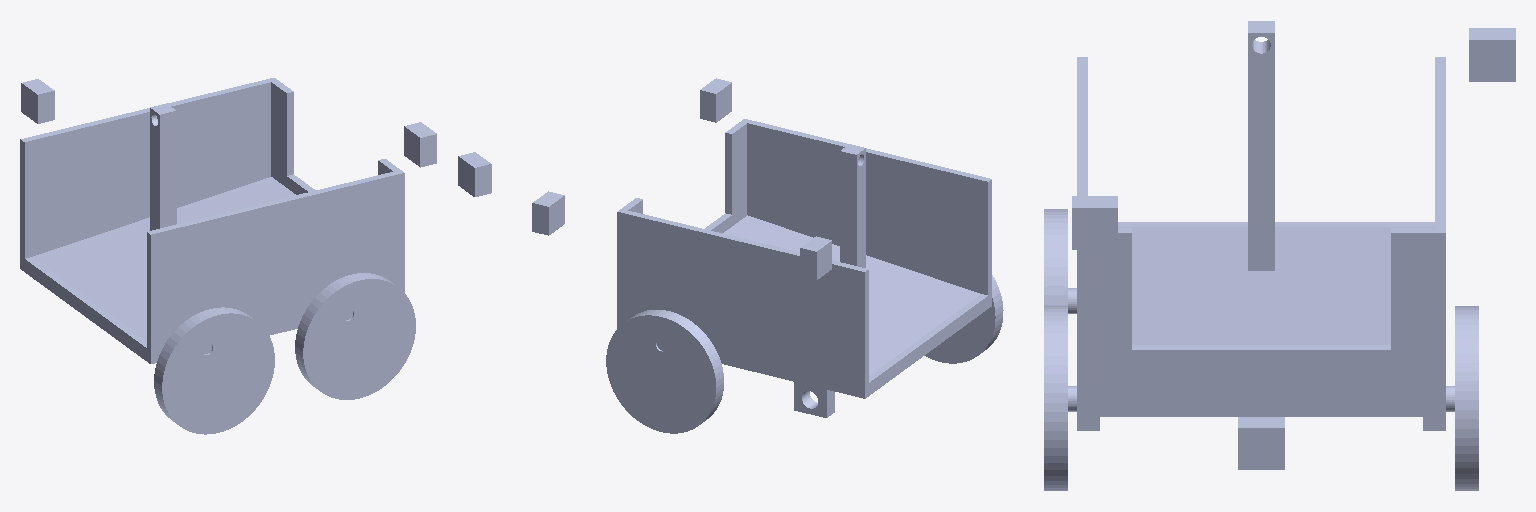
robot.urdf — bot11:
<?xml version="1.0" encoding="utf-8"?>

<robot
  name="bot11">
  <link
    name="base_link">
    <inertial>
      <origin
        xyz="0.02776 2.413E-16 0.048645"
        rpy="0 0 0" />
      <mass
        value="10.2" />
      <inertia
        ixx="0.22281"
        ixy="2.4131E-16"
        ixz="0.0003497"
        iyy="0.20416"
        iyz="1.0191E-16"
        izz="0.35837" />
    </inertial>
    <visual>
      <origin
        xyz="0 0 0"
        rpy="0 0 0" />
      <geometry>
        <mesh
          filename="package://bot11/meshes/base_link.STL" />
      </geometry>
      <material
        name="">
        <color
          rgba="0.79216 0.81961 0.93333 1" />
      </material>
    </visual>
    <collision>
      <origin
        xyz="0 0 0"
        rpy="0 0 0" />
      <geometry>
        <mesh
          filename="package://bot11/meshes/base_link.STL" />
      </geometry>
    </collision>
  </link>


  <link
    name="FRW">
    <inertial>
      <origin
        xyz="0 -7.5392E-05 -0.089381"
        rpy="0 0 0" />
      <mass
        value="0.8334" />
      <inertia
        ixx="0.0021574"
        ixy="1.6263E-19"
        ixz="-8.4703E-21"
        iyy="0.0021606"
        iyz="-8.5571E-07"
        izz="0.0039286" />
    </inertial>
    <visual>
      <origin
        xyz="0 0 0"
        rpy="0 0 0" />
      <geometry>
        <mesh
          filename="package://bot11/meshes/FRW.STL" />
      </geometry>
      <material
        name="one">
        <color
          rgba="0.79216 0.81961 0.93333 1" />
      </material>
    </visual>
    <collision>
      <origin
        xyz="0 0 0"
        rpy="0 0 0" />
      <geometry>
        <mesh
          filename="package://bot11/meshes/FRW.STL" />
      </geometry>
    </collision>
  </link>


  <joint
    name="FRWJ"
    type="continuous">
    <origin
      xyz="0.125 -0.13 -0.025"
      rpy="1.5708 0.39309 -3.1416" />
    <parent
      link="base_link" />
    <child
      link="FRW" />
    <axis
      xyz="0 0 1" />
    <safety_controller
      k_velocity="0" />
  </joint>


  <link
    name="FLW">
    <inertial>
      <origin
        xyz="0 -7.5392E-05 -0.089381"
        rpy="0 0 0" />
      <mass
        value="0.8334" />
      <inertia
        ixx="0.0021574"
        ixy="-8.7964E-21"
        ixz="2.7837E-19"
        iyy="0.0021606"
        iyz="-8.5571E-07"
        izz="0.0039286" />
    </inertial>
    <visual>
      <origin
        xyz="0 0 0"
        rpy="0 0 0" />
      <geometry>
        <mesh
          filename="package://bot11/meshes/FLW.STL" />
      </geometry>
      <material
        name="">
        <color
          rgba="0.79216 0.81961 0.93333 1" />
      </material>
    </visual>
    <collision>
      <origin
        xyz="0 0 0"
        rpy="0 0 0" />
      <geometry>
        <mesh
          filename="package://bot11/meshes/FLW.STL" />
      </geometry>
    </collision>
  </link>


  <joint
    name="FLWJ"
    type="continuous">
    <origin
      xyz="0.125000000000004 0.13 -0.025"
      rpy="1.5707963267949 0 0" />
    <parent
      link="base_link" />
    <child
      link="FLW" />
    <axis
      xyz="0 0 1" />
    <safety_controller
      k_velocity="0" />
  </joint>
  <link
    name="RRW">
    <inertial>
      <origin
        xyz="-2.7756E-17 -7.5392E-05 -0.089381"
        rpy="0 0 0" />
      <mass
        value="0.8334" />
      <inertia
        ixx="0.0021574"
        ixy="2.7105E-19"
        ixz="4.7063E-20"
        iyy="0.0021606"
        iyz="-8.5571E-07"
        izz="0.0039286" />
    </inertial>
    <visual>
      <origin
        xyz="0 0 0"
        rpy="0 0 0" />
      <geometry>
        <mesh
          filename="package://bot11/meshes/RRW.STL" />
      </geometry>
      <material
        name="">
        <color
          rgba="0.79216 0.81961 0.93333 1" />
      </material>
    </visual>
    <collision>
      <origin
        xyz="0 0 0"
        rpy="0 0 0" />
      <geometry>
        <mesh
          filename="package://bot11/meshes/RRW.STL" />
      </geometry>
    </collision>
  </link>
  <joint
    name="RRWJ"
    type="continuous">
    <origin
      xyz="-0.125 -0.13 -0.025"
      rpy="1.5707963267949 0.39309481042652 -3.14159265358979" />
    <parent
      link="base_link" />
    <child
      link="RRW" />
    <axis
      xyz="0 0 1" />
    <safety_controller
      k_velocity="0" />
  </joint>
  <link
    name="RLW">
    <inertial>
      <origin
        xyz="-1.3878E-17 -7.5392E-05 -0.089381"
        rpy="0 0 0" />
      <mass
        value="0.8334" />
      <inertia
        ixx="0.0021574"
        ixy="-8.7964E-21"
        ixz="2.7837E-19"
        iyy="0.0021606"
        iyz="-8.5571E-07"
        izz="0.0039286" />
    </inertial>
    <visual>
      <origin
        xyz="0 0 0"
        rpy="0 0 0" />
      <geometry>
        <mesh
          filename="package://bot11/meshes/RLW.STL" />
      </geometry>
      <material
        name="">
        <color
          rgba="0.79216 0.81961 0.93333 1" />
      </material>
    </visual>
    <collision>
      <origin
        xyz="0 0 0"
        rpy="0 0 0" />
      <geometry>
        <mesh
          filename="package://bot11/meshes/RLW.STL" />
      </geometry>
    </collision>
  </link>
  <joint
    name="RLWJ"
    type="continuous">
    <origin
      xyz="-0.124999999999996 0.13 -0.025"
      rpy="1.5707963267949 0 0" />
    <parent
      link="base_link" />
    <child
      link="RLW" />
    <axis
      xyz="0 0 1" />
    <safety_controller
      k_velocity="0" />
  </joint>
  <link
    name="LC">
    <inertial>
      <origin
        xyz="0.015 0 0"
        rpy="0 0 0" />
      <mass
        value="0.075" />
      <inertia
        ixx="3.125E-05"
        ixy="-1.6263E-22"
        ixz="4.2352E-22"
        iyy="2.125E-05"
        iyz="-1.3056E-21"
        izz="2.125E-05" />
    </inertial>
    <visual>
      <origin
        xyz="0 0 0"
        rpy="0 0 0" />
      <geometry>
        <mesh
          filename="package://bot11/meshes/LC.STL" />
      </geometry>
      <material
        name="">
        <color
          rgba="0.79216 0.81961 0.93333 1" />
      </material>
    </visual>
    <collision>
      <origin
        xyz="0 0 0"
        rpy="0 0 0" />
      <geometry>
        <mesh
          filename="package://bot11/meshes/LC.STL" />
      </geometry>
    </collision>
  </link>
  <joint
    name="LCJ"
    type="fixed">
    <origin
      xyz="0.05 0.2 0.125"
      rpy="1.5707963267949 0 1.5707963267949" />
    <parent
      link="base_link" />
    <child
      link="LC" />
    <axis
      xyz="0 0 0" />
    <safety_controller
      k_velocity="0" />
  </joint>
  <link
    name="FC">
    <inertial>
      <origin
        xyz="0.015 0 -1.0663E-16"
        rpy="0 0 0" />
      <mass
        value="0.075" />
      <inertia
        ixx="3.125E-05"
        ixy="-9.1835E-38"
        ixz="4.2352E-22"
        iyy="2.125E-05"
        iyz="-3.3633E-21"
        izz="2.125E-05" />
    </inertial>
    <visual>
      <origin
        xyz="0 0 0"
        rpy="0 0 0" />
      <geometry>
        <mesh
          filename="package://bot11/meshes/FC.STL" />
      </geometry>
      <material
        name="">
        <color
          rgba="0.79216 0.81961 0.93333 1" />
      </material>
    </visual>
    <collision>
      <origin
        xyz="0 0 0"
        rpy="0 0 0" />
      <geometry>
        <mesh
          filename="package://bot11/meshes/FC.STL" />
      </geometry>
    </collision>
  </link>
  <joint
    name="FCJ"
    type="fixed">
    <origin
      xyz="0.225 0 0.04"
      rpy="1.5707963267949 0 0" />
    <parent
      link="base_link" />
    <child
      link="FC" />
    <axis
      xyz="0 0 0" />
    <safety_controller
      k_velocity="0" />
  </joint>
  <link
    name="RC">
    <inertial>
      <origin
        xyz="0.015 0 -6.9389E-18"
        rpy="0 0 0" />
      <mass
        value="0.075" />
      <inertia
        ixx="3.125E-05"
        ixy="-1.6263E-22"
        ixz="4.2352E-22"
        iyy="2.125E-05"
        iyz="-1.3056E-21"
        izz="2.125E-05" />
    </inertial>
    <visual>
      <origin
        xyz="0 0 0"
        rpy="0 0 0" />
      <geometry>
        <mesh
          filename="package://bot11/meshes/RC.STL" />
      </geometry>
      <material
        name="">
        <color
          rgba="0.79216 0.81961 0.93333 1" />
      </material>
    </visual>
    <collision>
      <origin
        xyz="0 0 0"
        rpy="0 0 0" />
      <geometry>
        <mesh
          filename="package://bot11/meshes/RC.STL" />
      </geometry>
    </collision>
  </link>
  <joint
    name="RCJ"
    type="fixed">
    <origin
      xyz="0.0500000000000001 -0.23 0.125"
      rpy="1.5707963267949 0 1.5707963267949" />
    <parent
      link="base_link" />
    <child
      link="RC" />
    <axis
      xyz="0 0 0" />
    <safety_controller
      k_velocity="0" />
  </joint>
  <link
    name="EP1">
    <inertial>
      <origin
        xyz="0.12296 0 2.4032E-16"
        rpy="0 0 0" />
      <mass
        value="0.17181" />
      <inertia
        ixx="1.2311E-05"
        ixy="-1.0984E-20"
        ixz="-1.3847E-20"
        iyy="0.0057549"
        iyz="-4.5234E-22"
        izz="0.0057544" />
    </inertial>
    <visual>
      <origin
        xyz="0 0 0"
        rpy="0 0 0" />
      <geometry>
        <mesh
          filename="package://bot11/meshes/EP1.STL" />
      </geometry>
      <material
        name="">
        <color
          rgba="0.79216 0.81961 0.93333 1" />
      </material>
    </visual>
    <collision>
      <origin
        xyz="0 0 0"
        rpy="0 0 0" />
      <geometry>
        <mesh
          filename="package://bot11/meshes/EP1.STL" />
      </geometry>
    </collision>
  </link>
  <joint
    name="EP1J"
    type="prismatic">
    <origin
      xyz="0 0 0.305"
      rpy="1.5707963267949 0 0" />
    <parent
      link="base_link" />
    <child
      link="EP1" />
    <axis
      xyz="1 0 0" />
    <limit
      lower="-0.34"
      upper="0"
      effort="10"
      velocity="0.1" />
    <safety_controller
      k_velocity="0" />
  </joint>
  <link
    name="EP2">
    <inertial>
      <origin
        xyz="1.6653E-16 0.10207 -1.356E-17"
        rpy="0 0 0" />
      <mass
        value="0.11609" />
      <inertia
        ixx="0.001338"
        ixy="-4.3169E-22"
        ixz="-3.2817E-22"
        iyy="1.1509E-05"
        iyz="-7.3891E-21"
        izz="0.001337" />
    </inertial>
    <visual>
      <origin
        xyz="0 0 0"
        rpy="0 0 0" />
      <geometry>
        <mesh
          filename="package://bot11/meshes/EP2.STL" />
      </geometry>
      <material
        name="">
        <color
          rgba="0.79216 0.81961 0.93333 1" />
      </material>
    </visual>
    <collision>
      <origin
        xyz="0 0 0"
        rpy="0 0 0" />
      <geometry>
        <mesh
          filename="package://bot11/meshes/EP2.STL" />
      </geometry>
	</collision>
  </link>
  <joint
    name="EP2J"
    type="prismatic">
    <origin
      xyz="0.4025 0 0"
      rpy="0 0 3.14159265358979" />
    <parent
      link="EP1" />
    <child
      link="EP2" />
    <axis
      xyz="0 1 0" />
    <limit
      lower="-0.195"
      upper="0"
      effort="10"
      velocity="0.1" />
    <safety_controller
      k_velocity="0" />
  </joint>
  <link
    name="CH">
    <inertial>
      <origin
        xyz="-5.5511E-17 -0.026916 -2.3331E-16"
        rpy="0 0 0" />
      <mass
        value="0.033597" />
      <inertia
        ixx="5.6903E-06"
        ixy="-6.3651E-21"
        ixz="-4.0824E-21"
        iyy="8.1088E-06"
        iyz="-4.5535E-21"
        izz="6.3442E-06" />
    </inertial>
    <visual>
      <origin
        xyz="0 0 0"
        rpy="0 0 0" />
      <geometry>
        <mesh
          filename="package://bot11/meshes/CH.STL" />
      </geometry>
      <material
        name="">
        <color
          rgba="0.79216 0.81961 0.93333 1" />
      </material>
    </visual>
    <collision>
      <origin
        xyz="0 0 0"
        rpy="0 0 0" />
      <geometry>
        <mesh
          filename="package://bot11/meshes/CH.STL" />
      </geometry>
    </collision>
  </link>
  <joint
    name="CHJ"
    type="revolute">
    <origin
      xyz="0 0.252500000000003 0"
      rpy="3.14159265358979 0 0" />
    <parent
      link="EP2" />
    <child
      link="CH" />
    <axis
      xyz="0 0 1" />
    <limit
      lower="-0.7854"
      upper="0"
      effort="10"
      velocity="0.125" />
    <safety_controller
      k_velocity="0" />
  </joint>
  <!--<link
    name="F1">
    <inertial>
      <origin
        xyz="0.00022086 -0.059319 0.037402"
        rpy="0 0 0" />
      <mass
        value="0.026963" />
      <inertia
        ixx="3.4145E-05"
        ixy="-3.7053E-06"
        ixz="1.4729E-11"
        iyy="7.6085E-06"
        iyz="-5.8707E-11"
        izz="3.5528E-05" />
    </inertial>
    <visual>
      <origin
        xyz="0 0 0"
        rpy="0 0 0" />
      <geometry>
        <mesh
          filename="package://bot11/meshes/F3.STL" />
      </geometry>
      <material
        name="">
        <color
          rgba="0.79216 0.81961 0.93333 1" />
      </material>
    </visual>
    <collision>
      <origin
        xyz="0 0 0"
        rpy="0 0 0" />
      <geometry>
        <mesh
          filename="package://bot11/meshes/F3.STL" />
      </geometry>
    </collision>
  </link>
  <joint
    name="F1J"
    type="revolute">
    <origin
      xyz="0.0504615242270688 -0.042 -0.0125980762113492"
      rpy="-0.421429094018828 0.990894238270137 0.491952211341744" />
    <parent
      link="CH" />
    <child
      link="F1" />
    <axis
      xyz="0 0 1" />
    <limit
      lower="0"
      upper="1.0472"
      effort="10"
      velocity="0.125" />
    <safety_controller
      k_velocity="0" />
  </joint>-->
  <link
    name="F2">
    <inertial>
      <origin
        xyz="0.021298 -0.064967 5.5279E-08"
        rpy="0 0 0" />
      <mass
        value="0.026963" />
      <inertia
        ixx="3.4145E-05"
        ixy="-3.7053E-06"
        ixz="1.4921E-11"
        iyy="7.6085E-06"
        iyz="-5.0153E-11"
        izz="3.5529E-05" />
    </inertial>
    <visual>
      <origin
        xyz="0 0 0"
        rpy="0 0 0" />
      <geometry>
        <mesh
          filename="package://bot11/meshes/F2.STL" />
      </geometry>
      <material
        name="">
        <color
          rgba="0.79216 0.81961 0.93333 1" />
      </material>
    </visual>
    <collision>
      <origin
        xyz="0 0 0"
        rpy="0 0 0" />
      <geometry>
        <mesh
          filename="package://bot11/meshes/F2.STL" />
      </geometry>
    </collision>
  </link>
  <joint
    name="F2J"
    type="revolute">
    <origin
      xyz="-0.0143205080756887 -0.042 0"
      rpy="3.14159265358979 0 2.87979326579066" />
    <parent
      link="CH" />
    <child
      link="F2" />
    <axis
      xyz="0 0 1" />
    <limit
      lower="0"
      upper="1.0472"
      effort="10"
      velocity="0.125" />
    <safety_controller
      k_velocity="0" />
  </joint>
  <link
    name="F3">
    <inertial>
      <origin
        xyz="0.00022086 -0.059319 -0.037402"
        rpy="0 0 0" />
      <mass
        value="0.026963" />
      <inertia
        ixx="3.4145E-05"
        ixy="-3.7053E-06"
        ixz="1.4729E-11"
        iyy="7.6085E-06"
        iyz="-5.8707E-11"
        izz="3.5528E-05" />
    </inertial>
    <visual>
      <origin
        xyz="0 0 0"
        rpy="0 0 0" />
      <geometry>
        <mesh
          filename="package://bot11/meshes/F3.STL" />
      </geometry>
      <material
        name="">
        <color
          rgba="0.79216 0.81961 0.93333 1" />
      </material>
    </visual>
    <collision>
      <origin
        xyz="0 0 0"
        rpy="0 0 0" />
      <geometry>
        <mesh
          filename="package://bot11/meshes/F3.STL" />
      </geometry>
    </collision>
  </link>
  <joint
    name="F3J"
    type="revolute">
    <origin
      xyz="0.0504615242270688 -0.042 -0.0125980762113492"
      rpy="0.421429094018828 0.990894238270137 0.491952211341744" />
    <parent
      link="CH" />
    <child
      link="F3" />
    <axis
      xyz="0 0 1" />
    <limit
      lower="0"
      upper="1.0472"
      effort="10"
      velocity="0.125" />
    <safety_controller
      k_velocity="0" />
  </joint>
  <link
    name="Back">
    <inertial>
      <origin
        xyz="0.00625 0.099085 -1.9278E-17"
        rpy="0 0 0" />
      <mass
        value="0.92892" />
      <inertia
        ixx="0.013926"
        ixy="-3.5809E-21"
        ixz="1.3119E-20"
        iyy="0.010898"
        iyz="-6.7826E-19"
        izz="0.0030521" />
    </inertial>
    <visual>
      <origin
        xyz="0.225 0 0"
        rpy="0 0 0" />
      <geometry>
        <mesh
          filename="package://bot11/meshes/Back.STL" />
      </geometry>
      <material
        name="">
        <color
          rgba="0.79216 0.81961 0.93333 1" />
      </material>
    </visual>
    <collision>
      <origin
        xyz="0.225 0 0"
        rpy="0 0 0" />
      <geometry>
        <mesh
          filename="package://bot11/meshes/Back.STL" />
      </geometry>
    </collision>
  </link>
  <joint
    name="BJ"
    type="prismatic">
    <origin
      xyz="-0.225 0 0.022817"
      rpy="1.5708 0 0" />
    <parent
      link="base_link" />
    <child
      link="Back" />
    <axis
      xyz="0 -1 0" />
    <limit
      lower="-0.15"
      upper="0"
      effort="0"
      velocity="0" />
    <safety_controller
      k_velocity="0" />
  </joint>
</robot>

--- What the picture shows (computed from the rendered views, not written in the file) ---
3 views of the same robot in one strip: view 1: azimuth 30°, elevation 25°; view 2: azimuth 150°, elevation 25°; view 3: azimuth 270°, elevation 25° (orthographic).
Model bot11 with 14 links and 13 joints (3 revolute, 4 continuous, 3 prismatic, 3 fixed), rooted at base_link, posed all joints at 0.
Visible links, largest first — view 1: base_link, RRW, FRW, FC, LC, RC; view 2: base_link, FLW, RRW, FC, RC, LC; view 3: base_link, FRW, FLW, RRW, LC, FC, RC.
Link boxes in pixels (x1,y1,x2,y2): base_link: [20, 78, 404, 363]; RRW: [154, 307, 274, 434]; FRW: [295, 273, 415, 399]; FC: [458, 152, 491, 196]; LC: [21, 79, 54, 123]; RC: [404, 122, 436, 167]; base_link: [617, 119, 991, 417]; FLW: [606, 310, 723, 433]; RRW: [925, 275, 1003, 363]; FC: [532, 191, 564, 235]; RC: [700, 78, 731, 122]; LC: [800, 236, 831, 280]; base_link: [1077, 21, 1445, 430]; FRW: [1044, 306, 1076, 490]; FLW: [1446, 306, 1478, 490]; RRW: [1044, 209, 1076, 313]; LC: [1469, 28, 1515, 81]; FC: [1238, 417, 1284, 469]; RC: [1072, 196, 1117, 249].
Bounding box of the posed robot: 0.705 × 0.51 × 0.445 m (x, y, z).
Meshes: 14 distinct files referenced, 7 mesh visuals loaded (7 binary STL); not drawn: 7 (reference not matched to a file when rendering).
